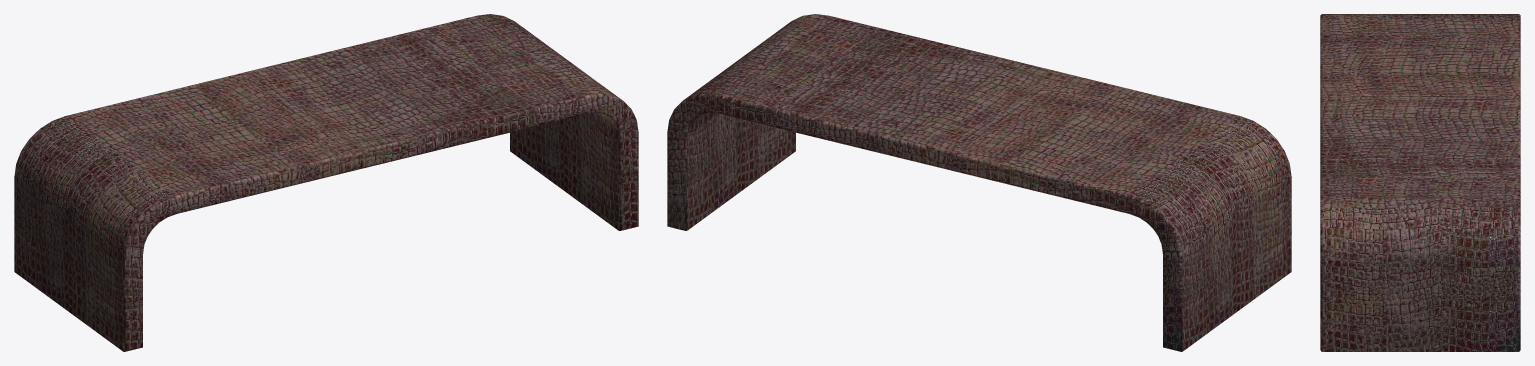
The picture shows the model from 3 angles, left to right: view 1: azimuth 30°, elevation 25°; view 2: azimuth 150°, elevation 25°; view 3: azimuth 270°, elevation 25°; orthographic projection. The views are drawn at different scales.
Parts seen in each view (by area): view 1: Geom3D; view 2: Geom3D; view 3: Geom3D.
Part boxes in pixels (box(x1,y1,x2,y2)): Geom3D: box(14, 14, 638, 351); Geom3D: box(667, 14, 1291, 351); Geom3D: box(1320, 14, 1520, 351).
Size of the model in its own units: 1.2 by 0.3197 by 0.4499.
Materials: 1 (1 with a texture image).
